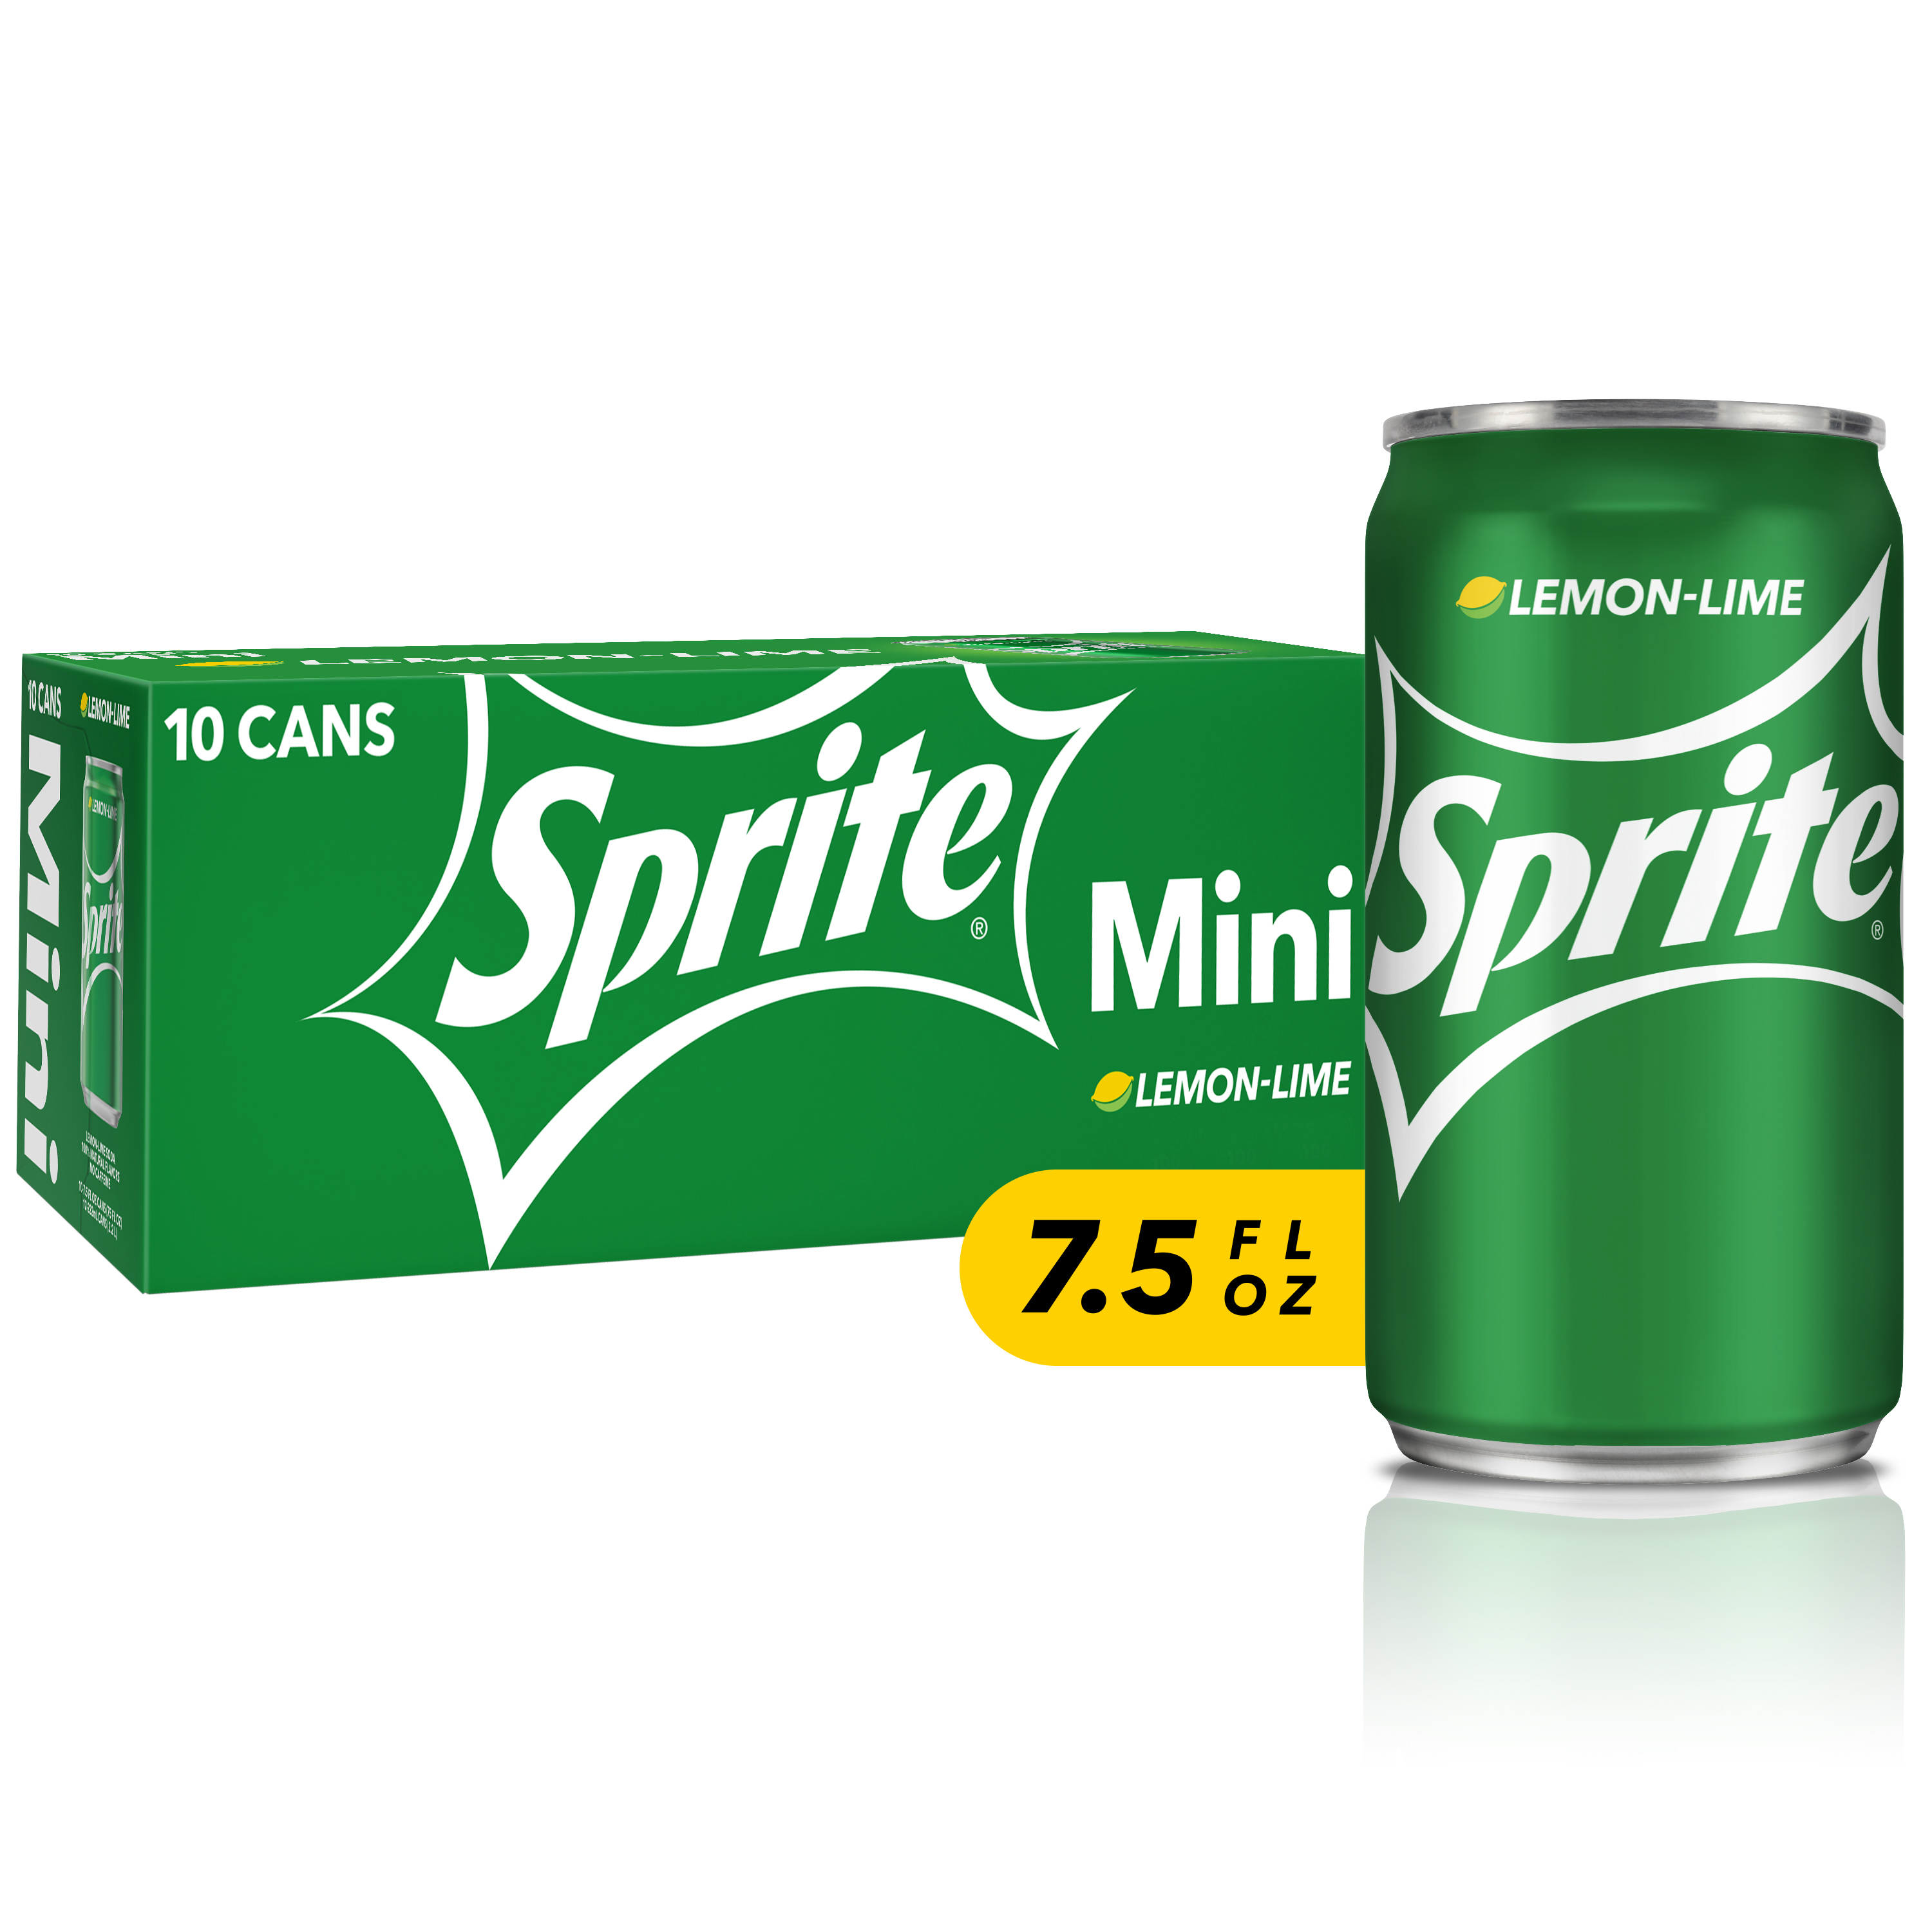Sprite: (1359, 398, 1888, 1504)
